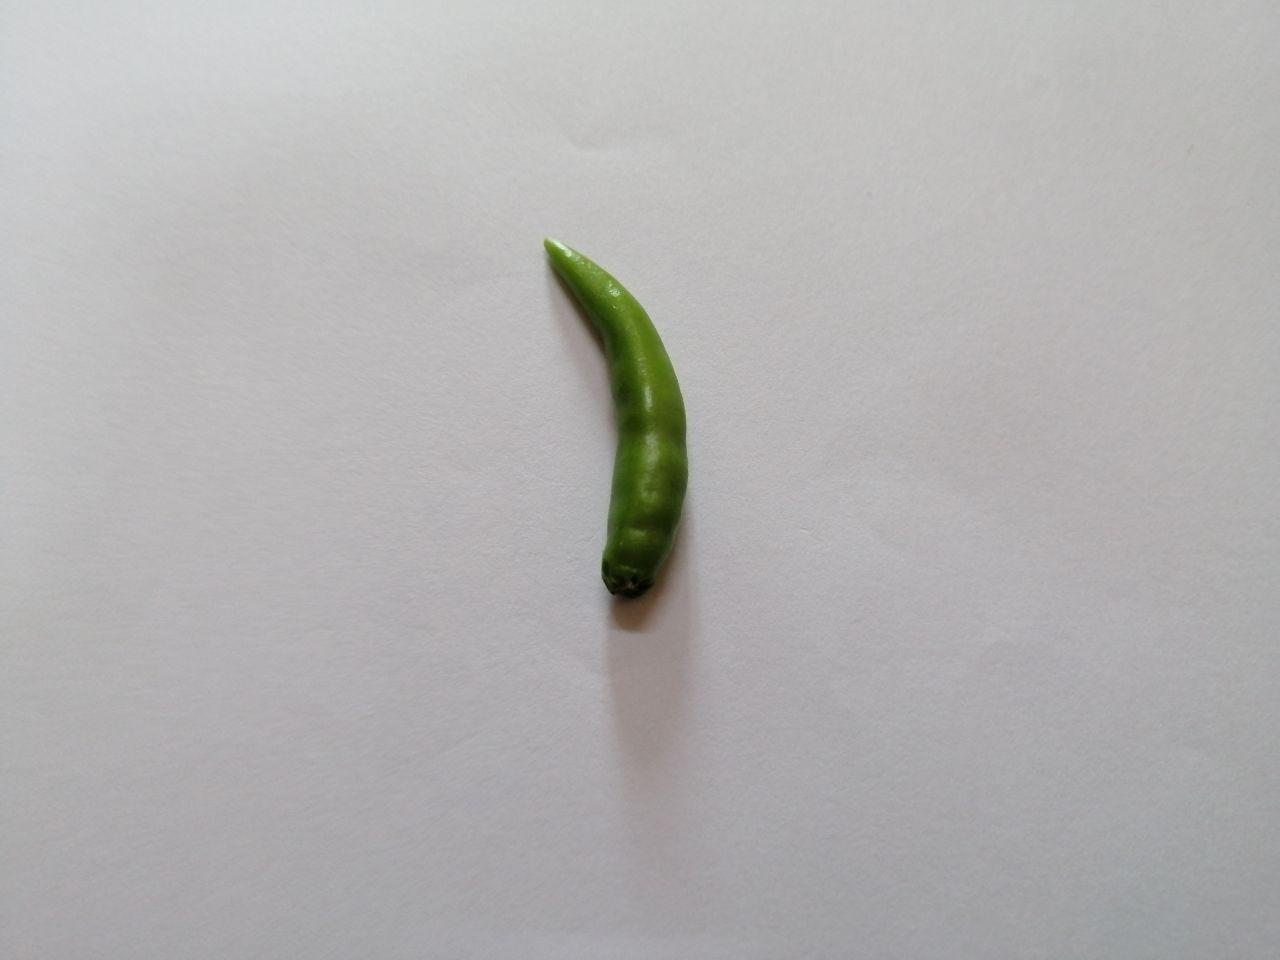lada hijau: (522, 217, 725, 627)
